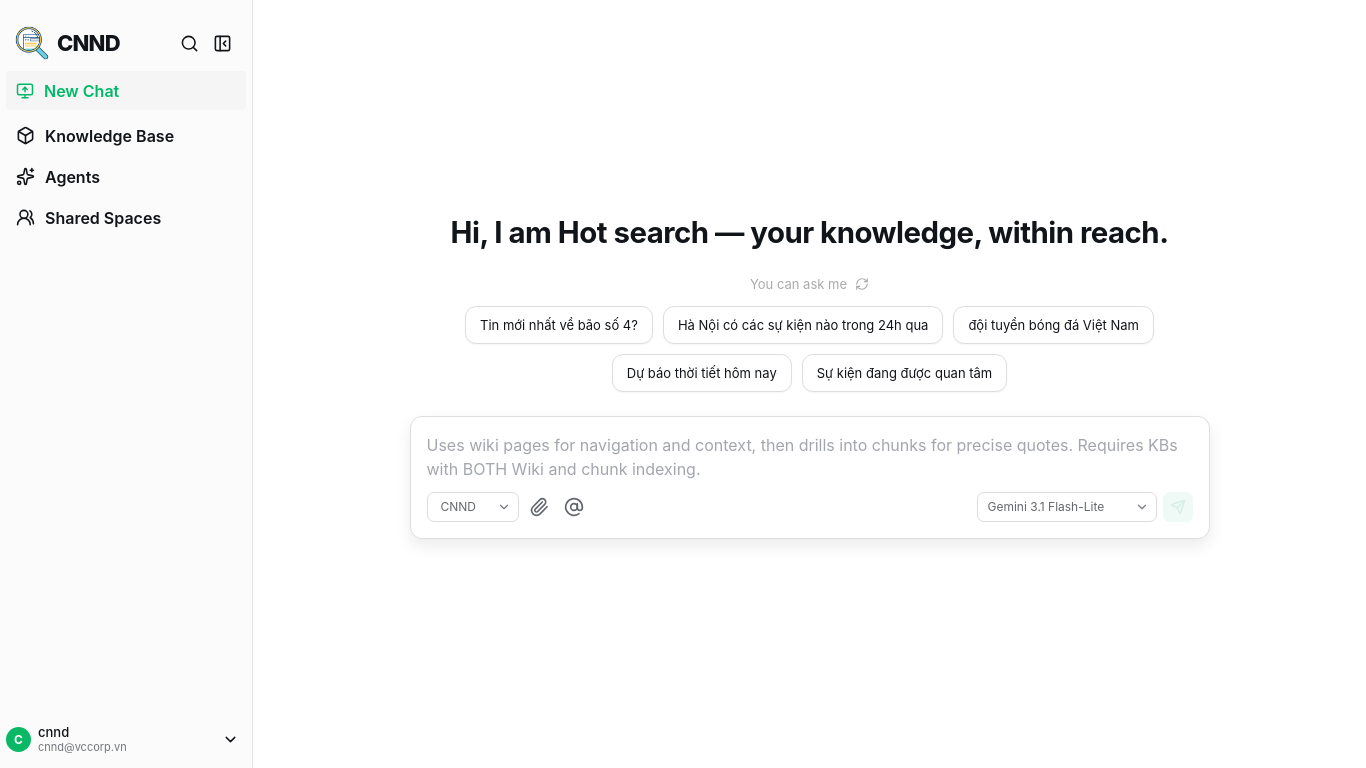
Test: cnnd chat UI › clears the current local conversation with New Chat
This screenshot has width=1366, height=768.
In the text box named "Message": (810, 460) [426,433,1192,487], type "Tin nhắn"
Then press Enter
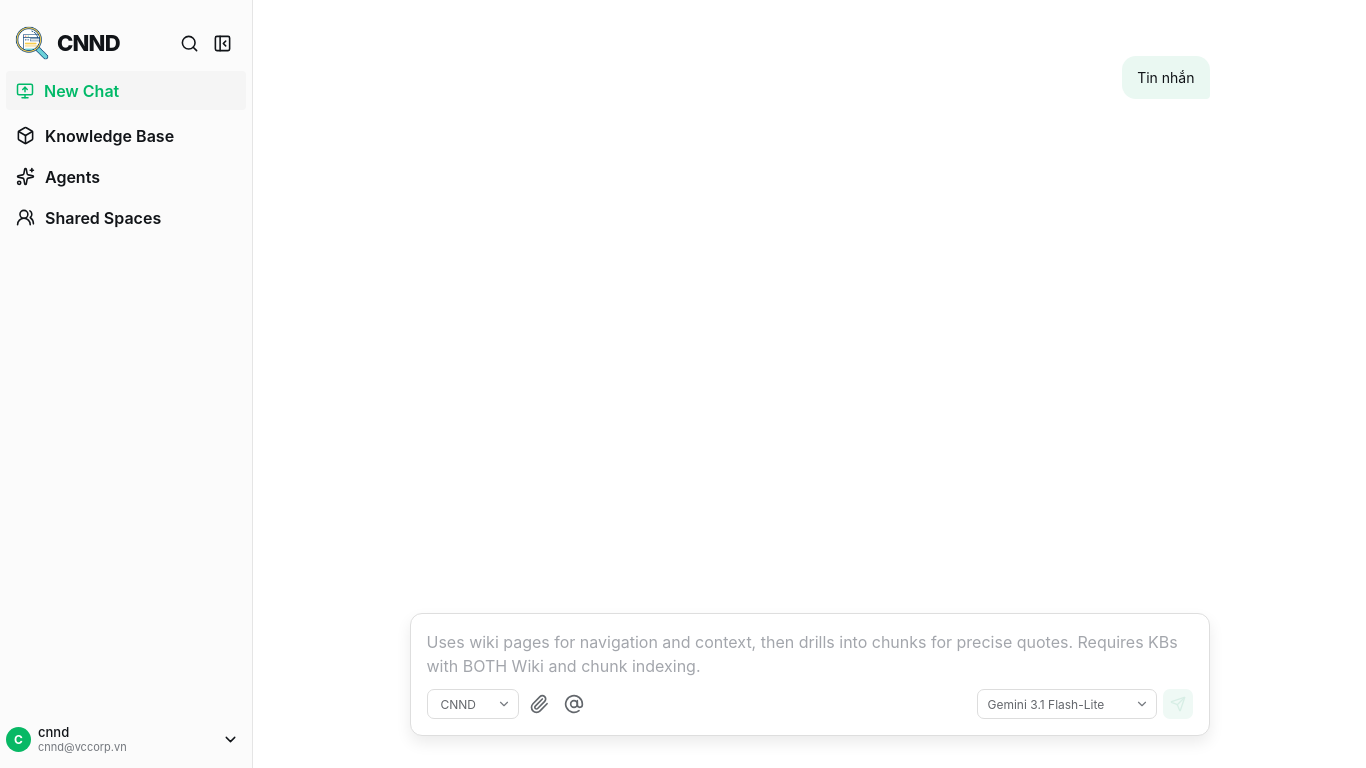
Click the button "New Chat": (126, 90) [6,71,246,110]
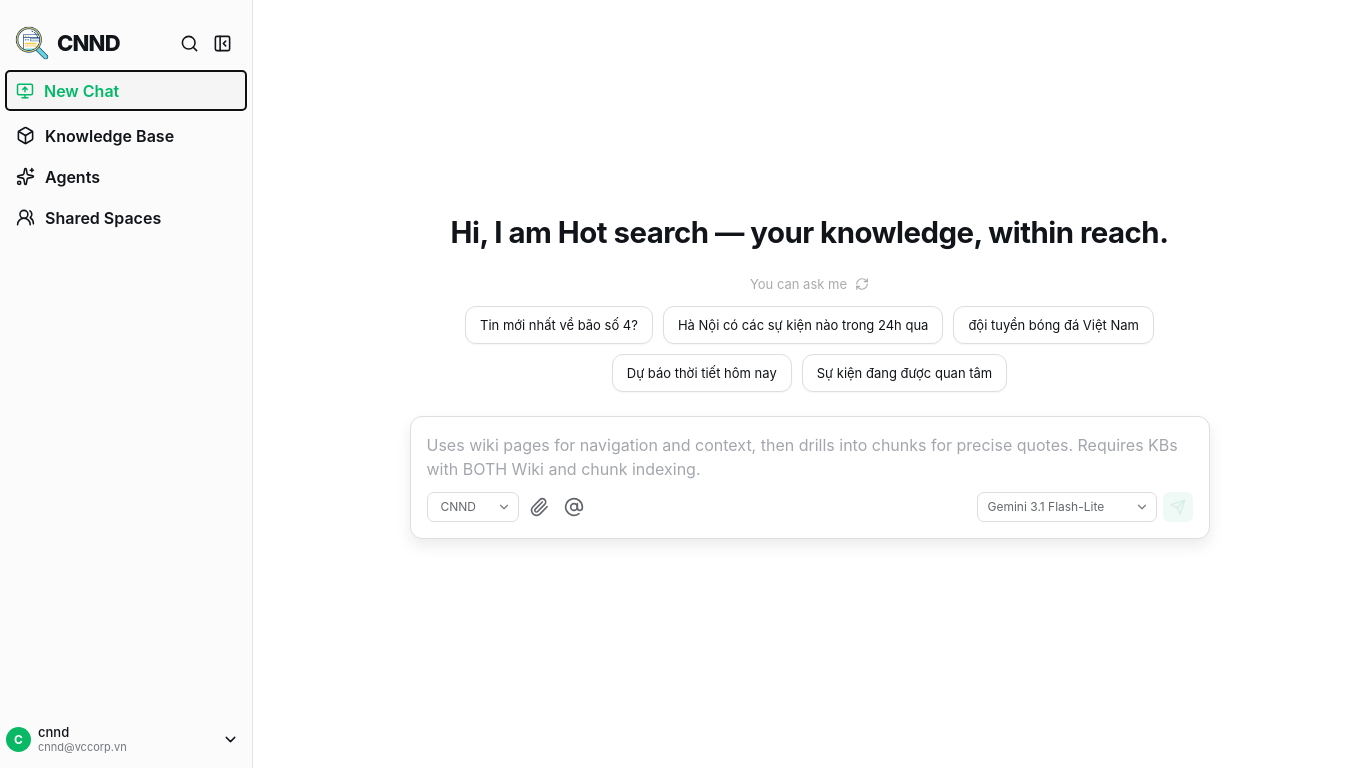
Expected: the text "Tin nhắn" is gone
Expected: the text "You can ask me" is shown, [750,276,847,292]
